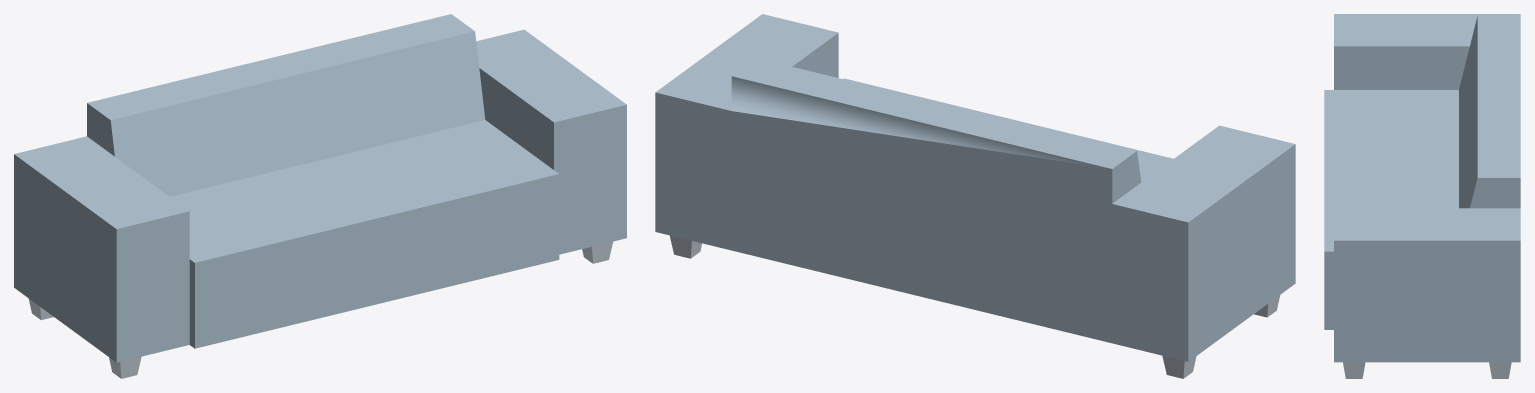
Rendered from loungeDesignSofa.glb.
3 views of the same model, side by side, from view 1: azimuth 30°, elevation 25°; view 2: azimuth 150°, elevation 25°; view 3: azimuth 270°, elevation 25° (orthographic). The views are drawn at different scales.
Visible parts, largest first — view 1: loungeDesignSofa(Clone); view 2: loungeDesignSofa(Clone); view 3: loungeDesignSofa(Clone).
Part boxes in pixels (x1,y1,x2,y2): loungeDesignSofa(Clone): (14, 14, 626, 378); loungeDesignSofa(Clone): (655, 14, 1295, 378); loungeDesignSofa(Clone): (1324, 14, 1520, 378).
Size of the model in its own units: 1.12 by 0.4 by 0.41.
